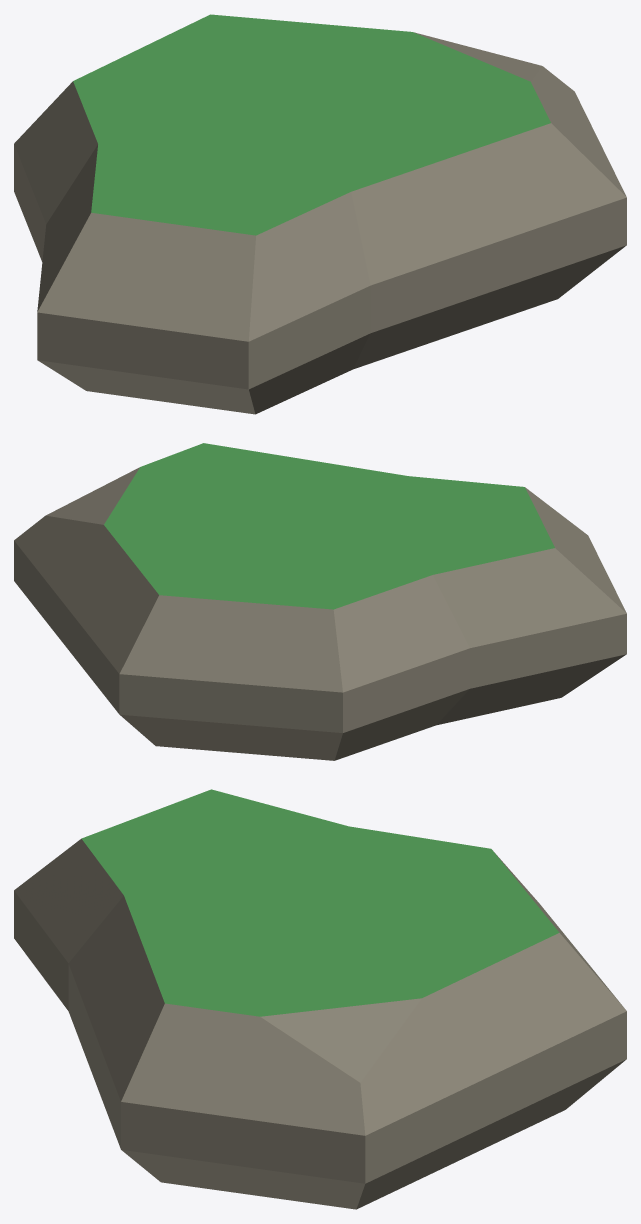
Rendered from rock-moss.glb.
3 renders of one model, top to bottom at view 1: azimuth 30°, elevation 25°; view 2: azimuth 150°, elevation 25°; view 3: azimuth 270°, elevation 25°, orthographic. The views are drawn at different scales.
Parts seen in each view (by area): view 1: rock-moss; view 2: rock-moss; view 3: rock-moss.
Boxes of the visible parts, x1,y1,x2,y2 form: rock-moss: (14, 14, 626, 414); rock-moss: (14, 443, 626, 760); rock-moss: (14, 789, 626, 1209).
Bounding box in the file's own units: 3.56 × 0.95 × 2.99.
